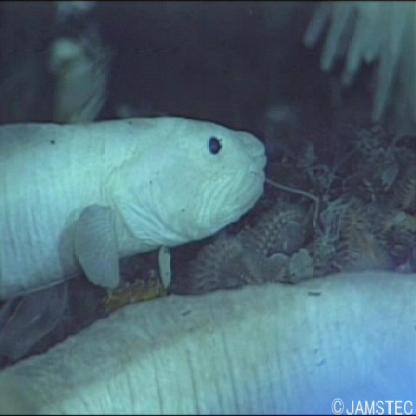Bio: (1, 108, 274, 308)
